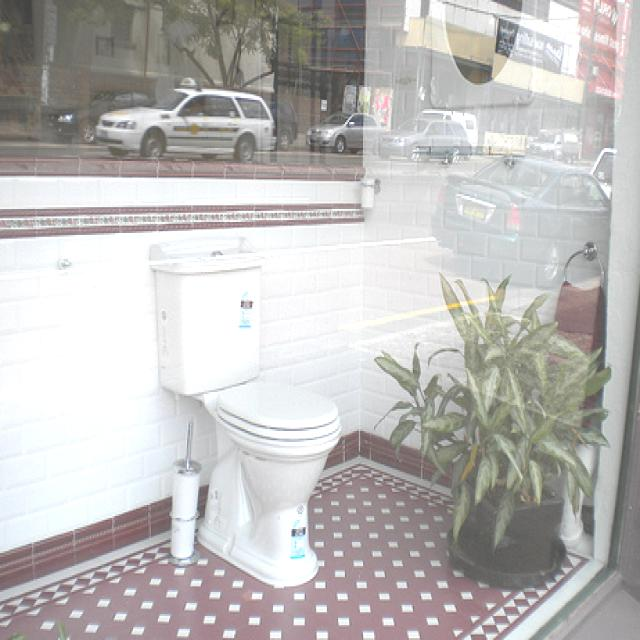Vehicle: (432, 153, 612, 287), (95, 89, 277, 162), (378, 116, 472, 166), (306, 108, 388, 156), (420, 110, 478, 156), (263, 100, 299, 150), (588, 147, 618, 205), (526, 131, 582, 161)
